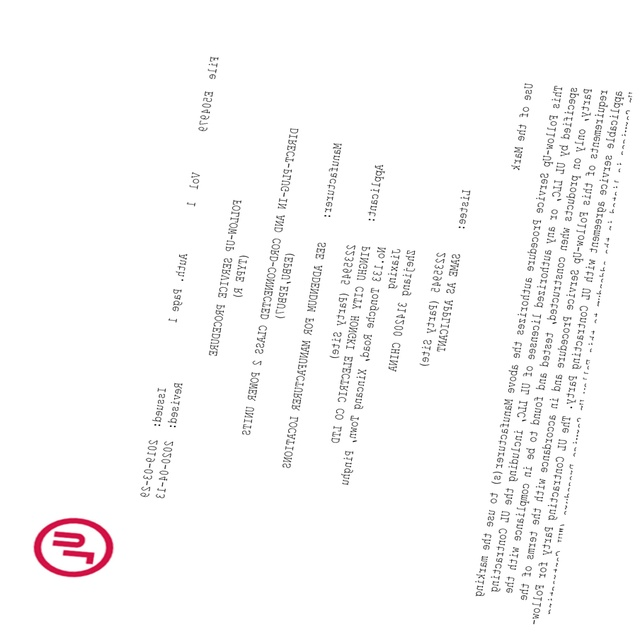ul: (33, 516, 114, 579)
